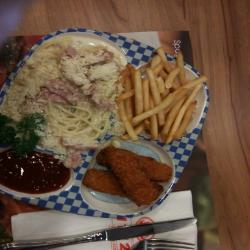carbonara: (14, 48, 127, 157)
fries: (118, 50, 209, 154)
ketchup: (1, 147, 81, 203)
